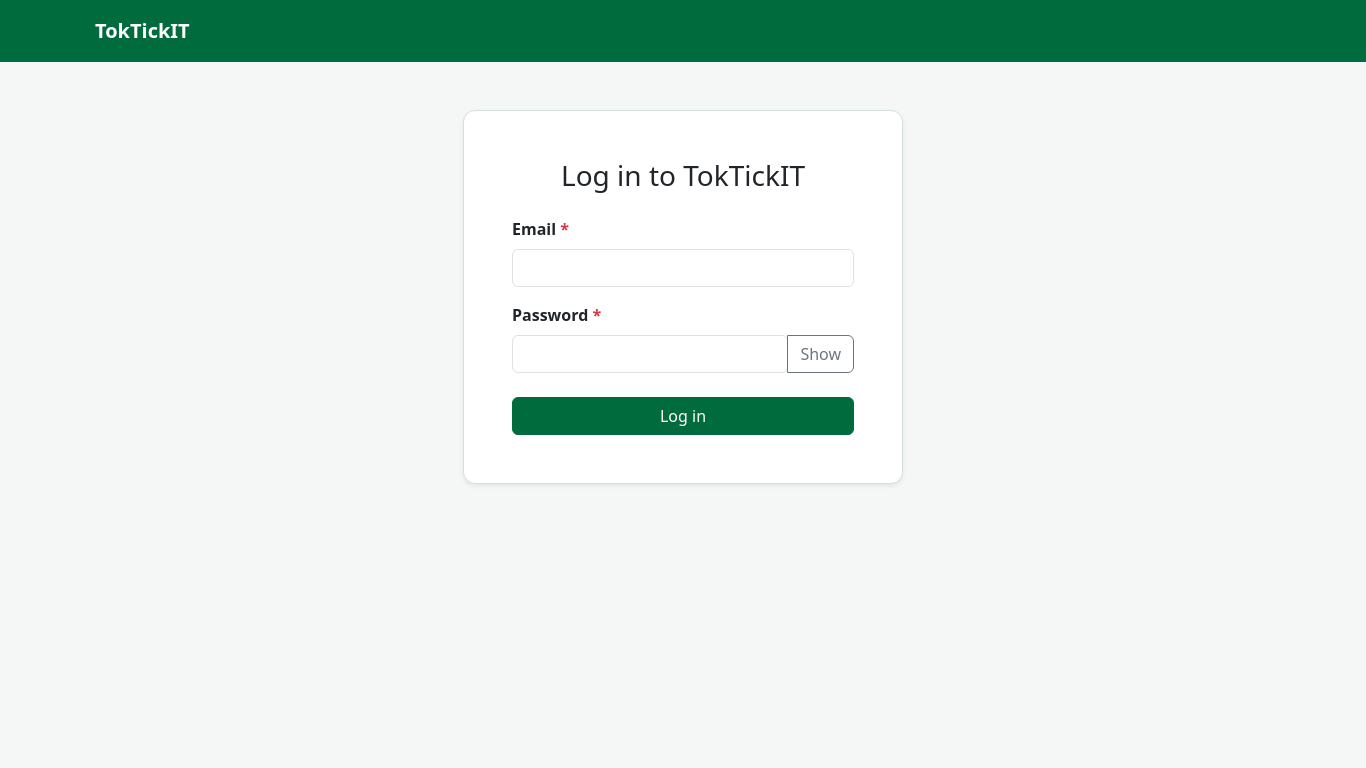
Login › shows the inactive account message
The image size is (1366, 768).
In the field labelled "Email *": x=683, y=268 top-left (512, 249), bottom-right (854, 287), type "alex.ford@example.com"
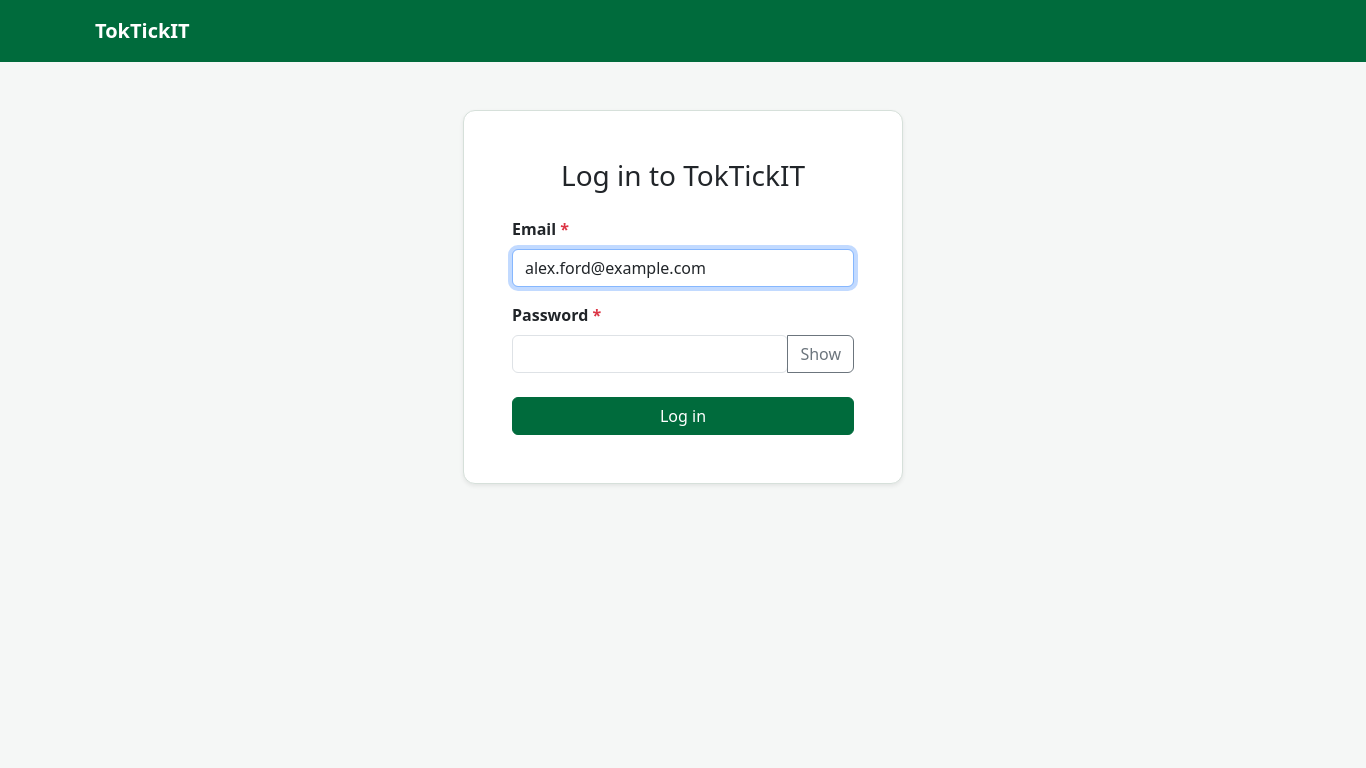
In the password field labelled "Password *": x=650, y=354 top-left (512, 335), bottom-right (788, 373), type "ChangeMe123"
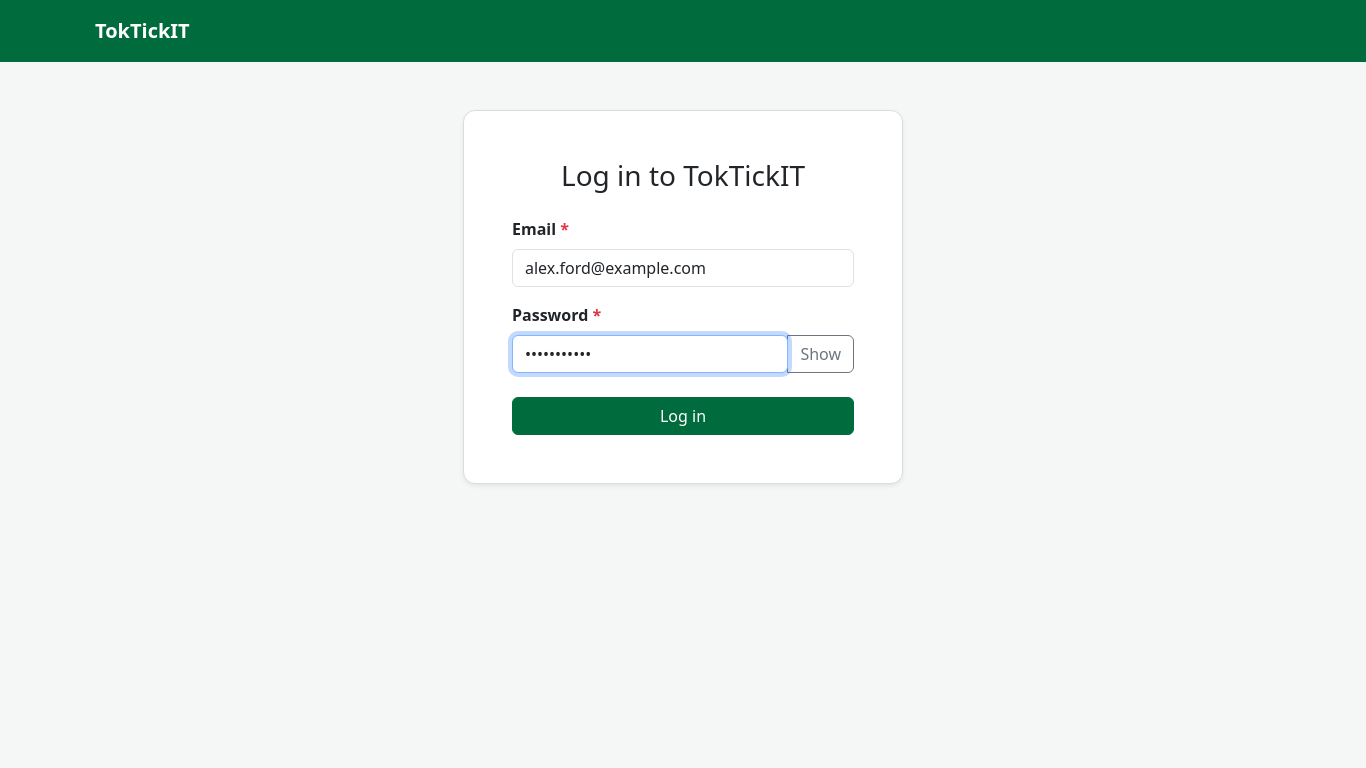
Click the button "Log in": x=683, y=416 top-left (512, 397), bottom-right (854, 435)
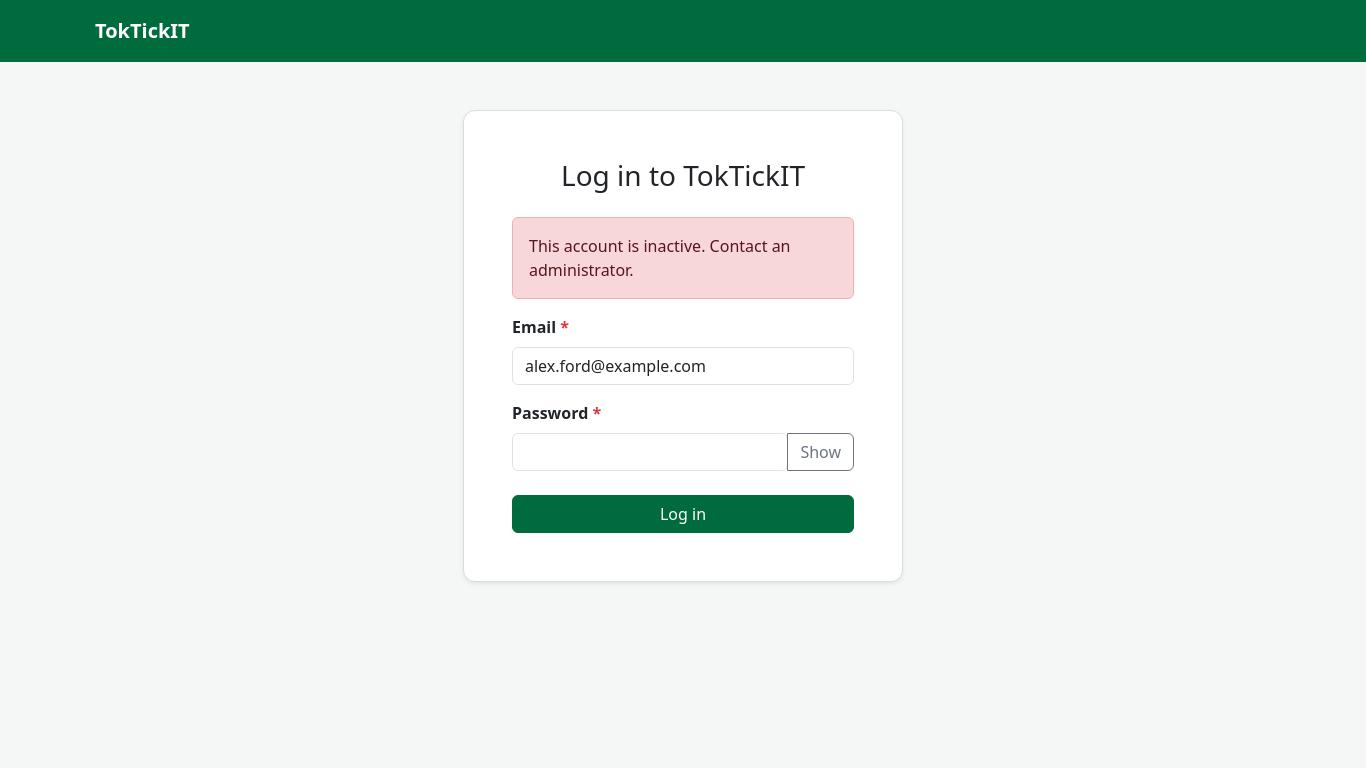
expect the message reads "This account is inactive. Contact an administrator.": met, box top-left (529, 235), bottom-right (790, 281)
